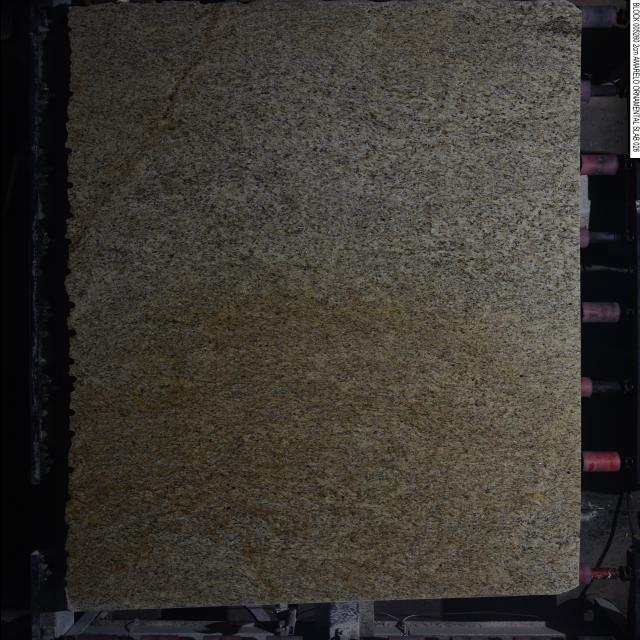chapa: (64, 0, 578, 610)
veio: (66, 300, 76, 312)
